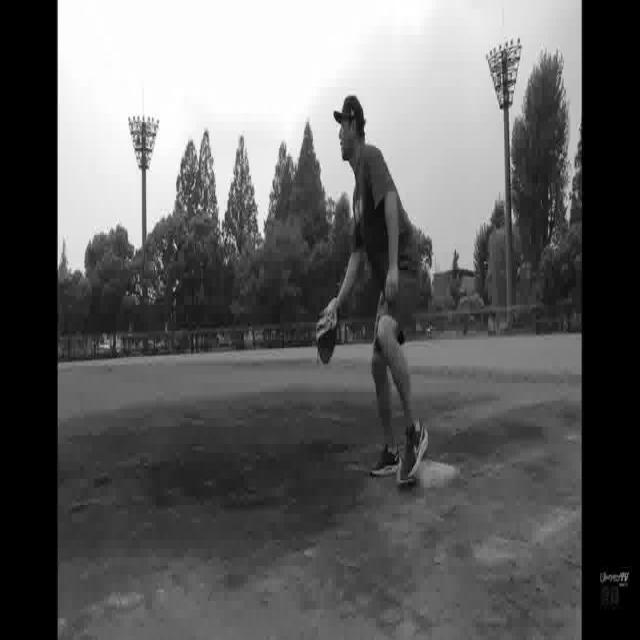base: (416, 462, 465, 491)
baseball_glove: (316, 296, 342, 372)
shoe: (398, 419, 431, 485), (373, 445, 404, 473)
